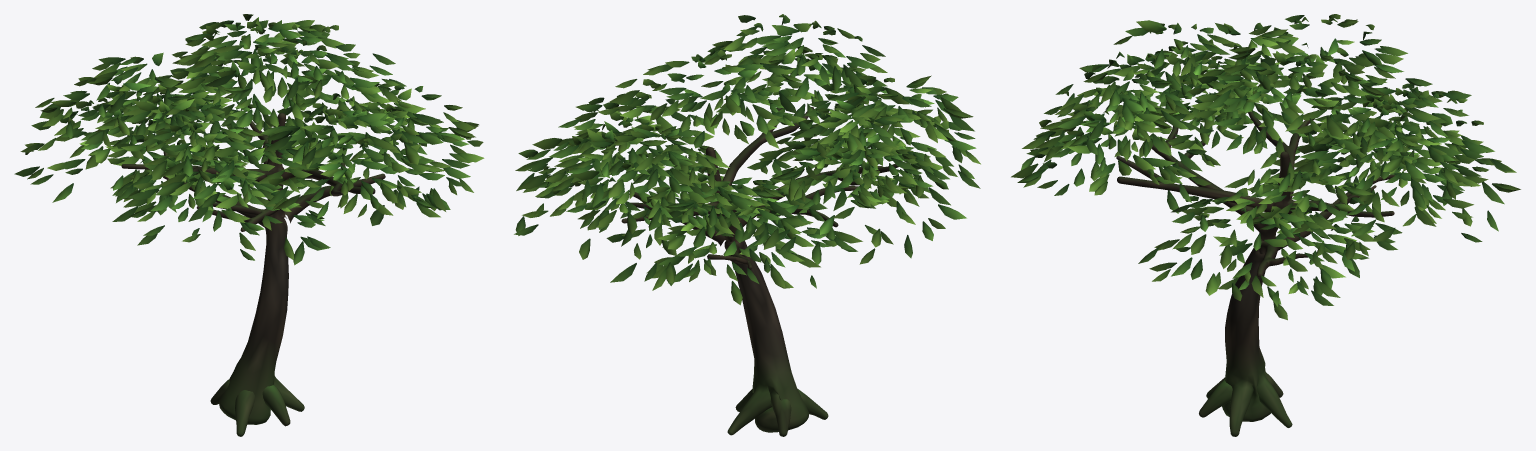
The model's file is tree_apple.glb.
3 views of the same model, side by side, from view 1: azimuth 30°, elevation 25°; view 2: azimuth 150°, elevation 25°; view 3: azimuth 270°, elevation 25° (orthographic). The views are drawn at different scales.
Visible parts, largest first — view 1: tree_apple; view 2: tree_apple; view 3: tree_apple.
Boxes of the visible parts, x1,y1,x2,y2 form: tree_apple: [14, 14, 484, 436]; tree_apple: [514, 14, 980, 436]; tree_apple: [1011, 14, 1520, 436].
Bounding box in the file's own units: 6.14 × 4.88 × 6.01.
